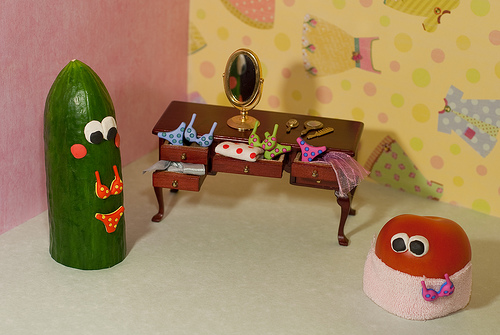cucumber: (42, 58, 126, 272)
